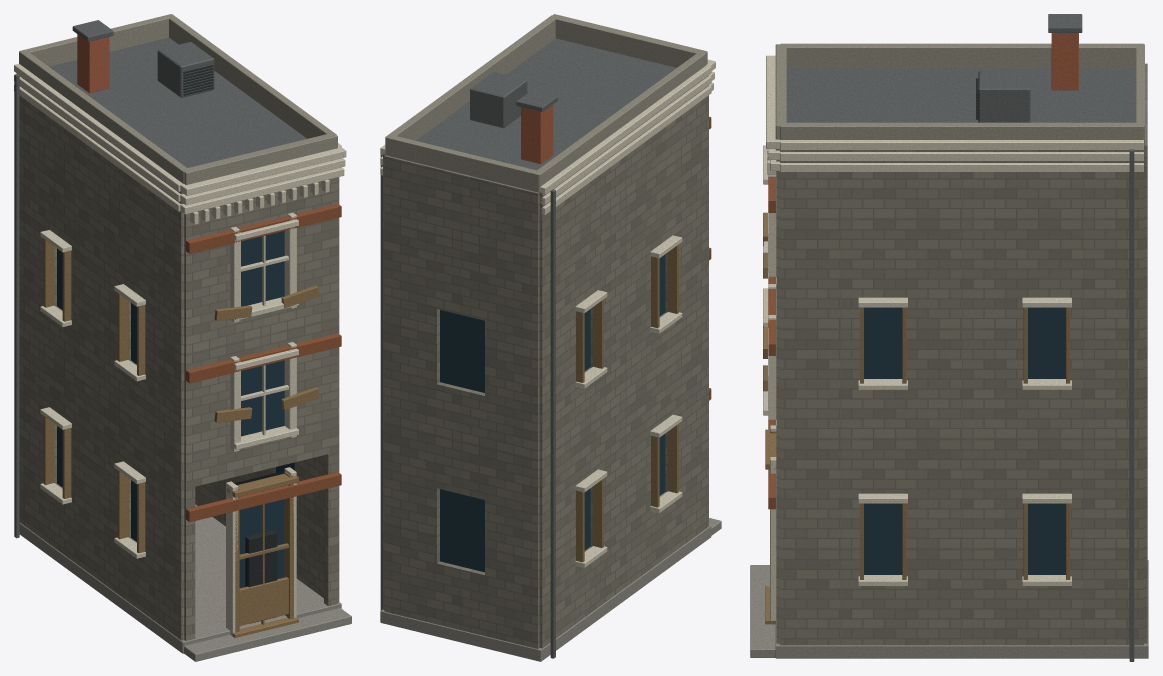
Rendered from WHSE22_lod1.glb.
The picture shows the model from 3 angles, left to right: view 1: azimuth 30°, elevation 25°; view 2: azimuth 150°, elevation 25°; view 3: azimuth 270°, elevation 25°; orthographic projection. The views are drawn at different scales.
Visible parts, largest first — view 1: WHSE22_LOD1; view 2: WHSE22_LOD1; view 3: WHSE22_LOD1.
Part boxes in pixels (<box>): WHSE22_LOD1: <box>14,14,351,661</box>; WHSE22_LOD1: <box>380,14,721,661</box>; WHSE22_LOD1: <box>750,14,1148,661</box>.
Bounding box in the file's own units: 3.71 × 10.45 × 6.57.
11 materials, 9 textured.
